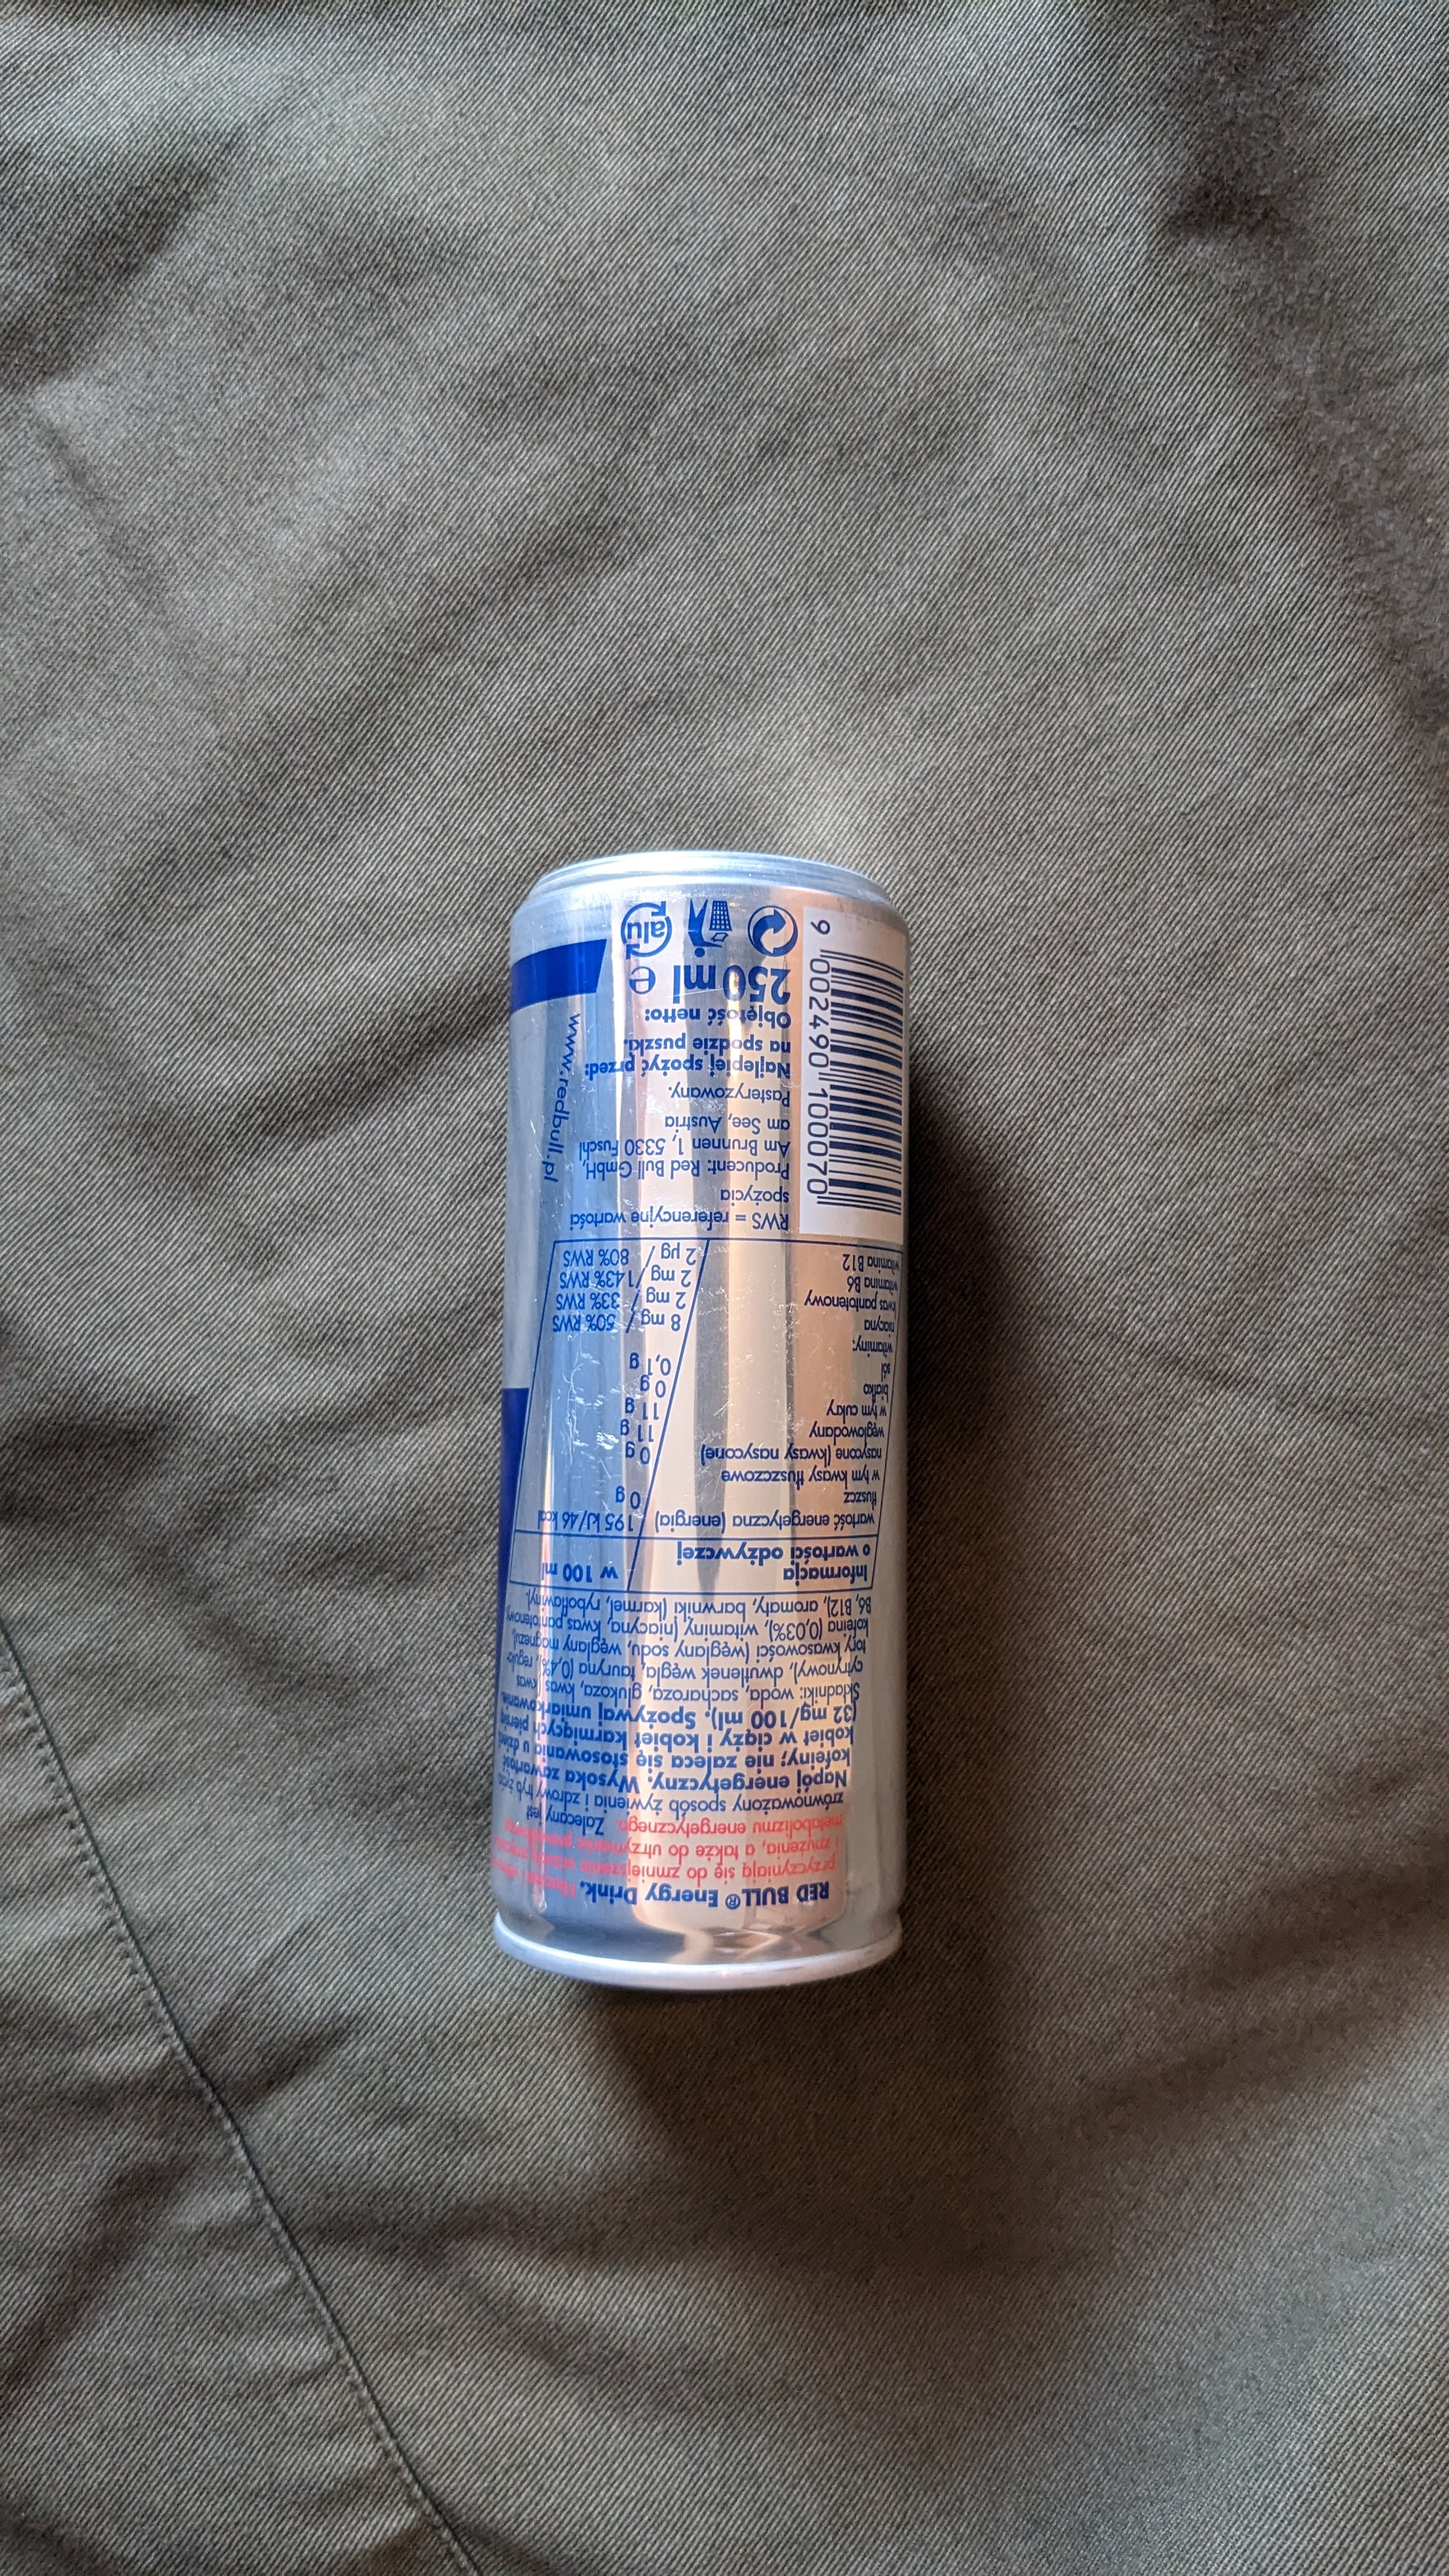red-bull: (469, 830, 955, 2020)
